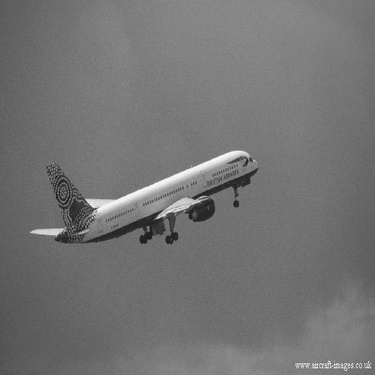airplane: (23, 140, 262, 254)
